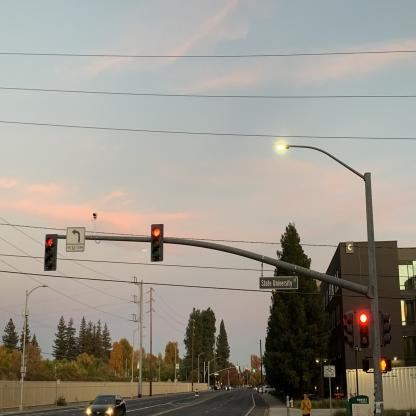left-red: (44, 234, 58, 271)
red: (356, 309, 372, 348), (151, 224, 163, 262)
